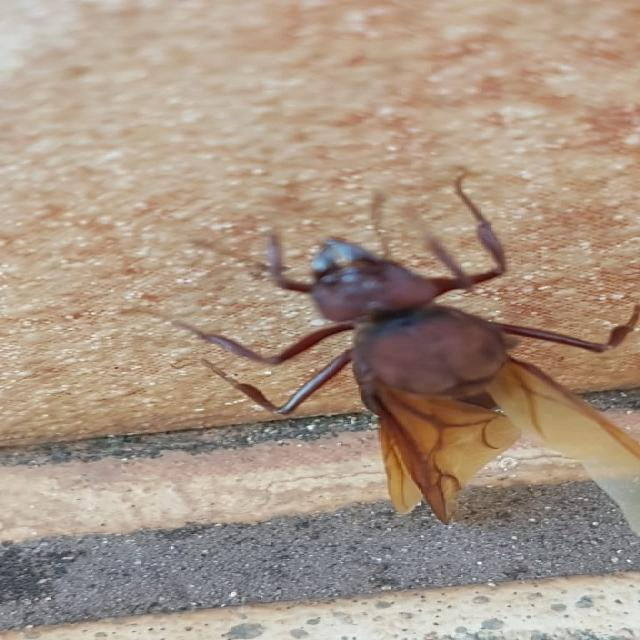Alive-Female-Alate: (115, 170, 640, 535)
